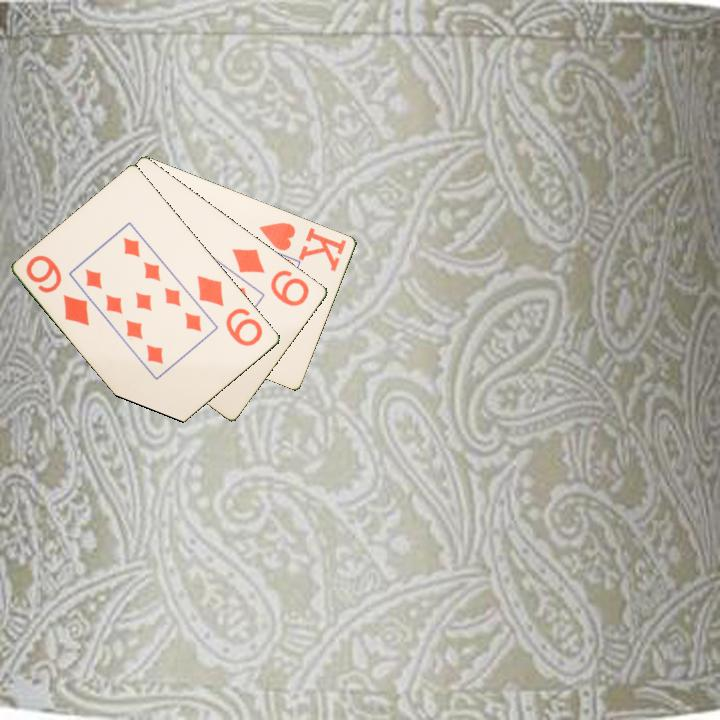9d: (194, 272, 266, 349), (22, 251, 93, 329), (229, 245, 313, 309)
Kh: (256, 218, 350, 274)
